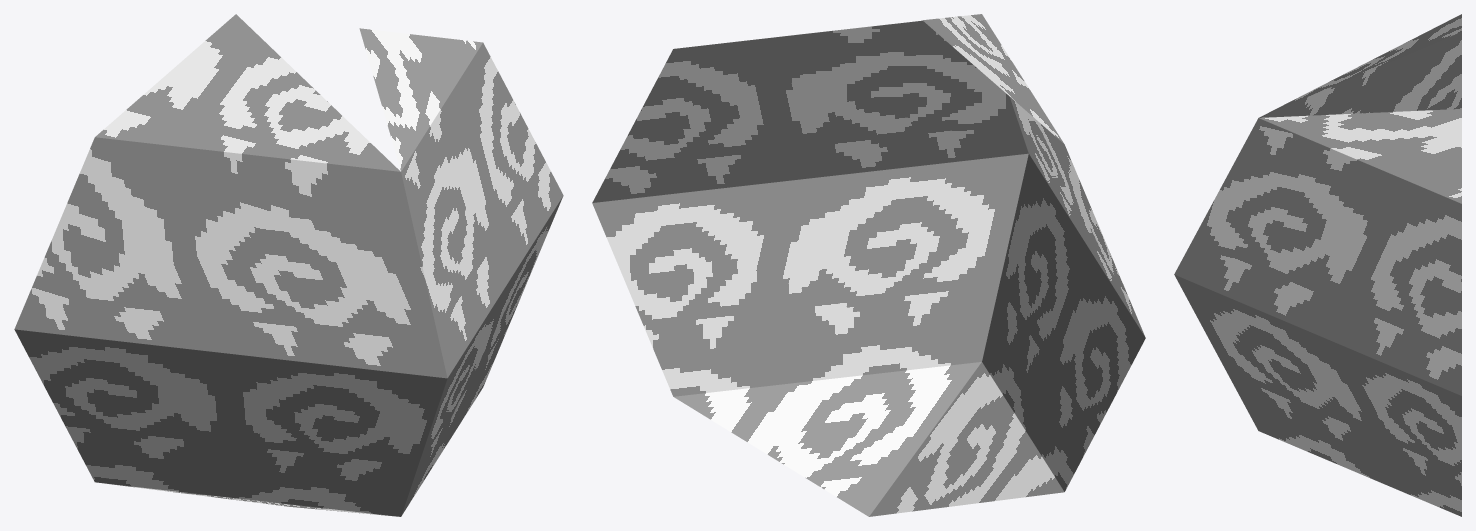
The picture shows the model from 3 angles, left to right: view 1: azimuth 30°, elevation 25°; view 2: azimuth 150°, elevation 25°; view 3: azimuth 270°, elevation 25°; orthographic projection. The views are drawn at different scales.
Parts seen in each view (by area): view 1: ef_201; view 2: ef_201; view 3: ef_201.
Part boxes in pixels (x1,y1,x2,y2): ef_201: (14, 14, 563, 516); ef_201: (592, 14, 1145, 516); ef_201: (1174, 14, 1461, 516).
Bounding box in the file's own units: 0.3066 × 0.2698 × 0.1533.
Materials: 1 (1 with a texture image).
